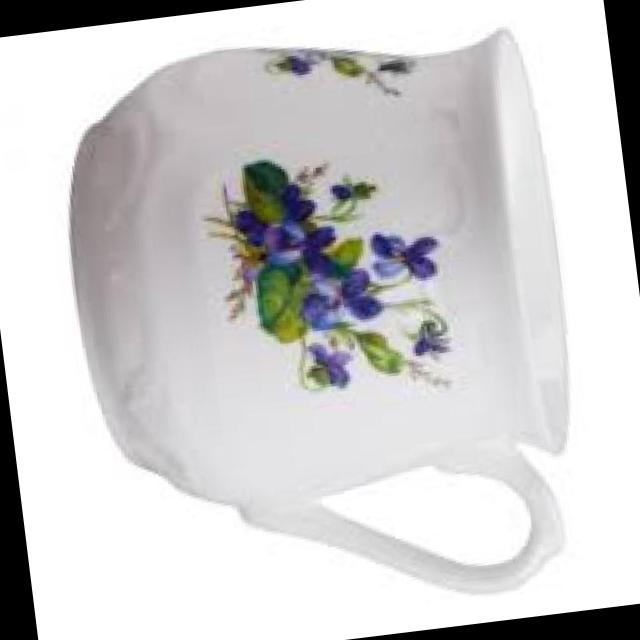Coffee Mug: (49, 12, 598, 639)
